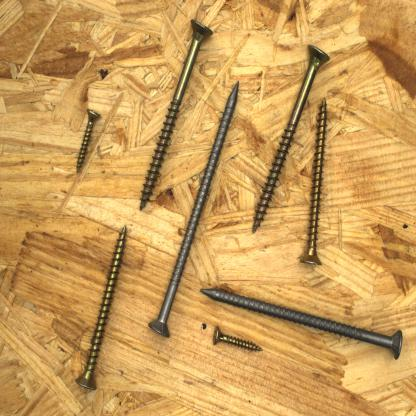screw: (147, 79, 241, 340), (249, 42, 332, 238), (196, 285, 405, 361), (136, 15, 215, 215), (72, 222, 130, 392), (297, 95, 329, 268), (74, 106, 102, 179), (208, 324, 267, 354)
